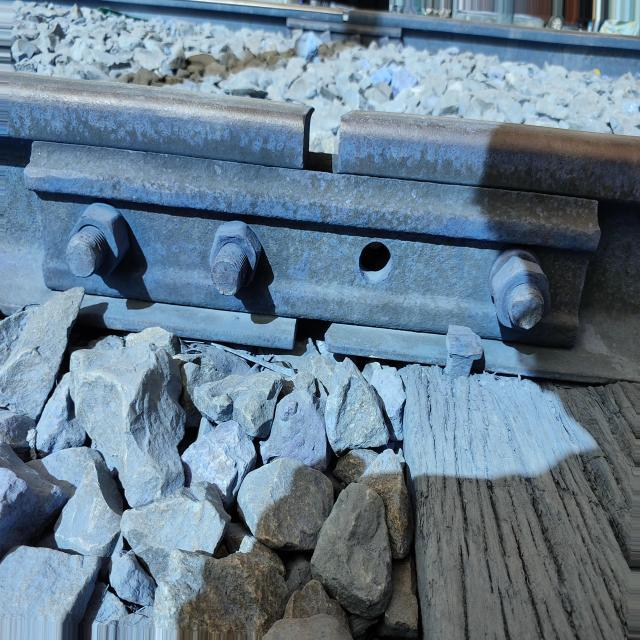Defective Joint: (29, 147, 598, 359)
Good Fasteners: (445, 325, 483, 379)
